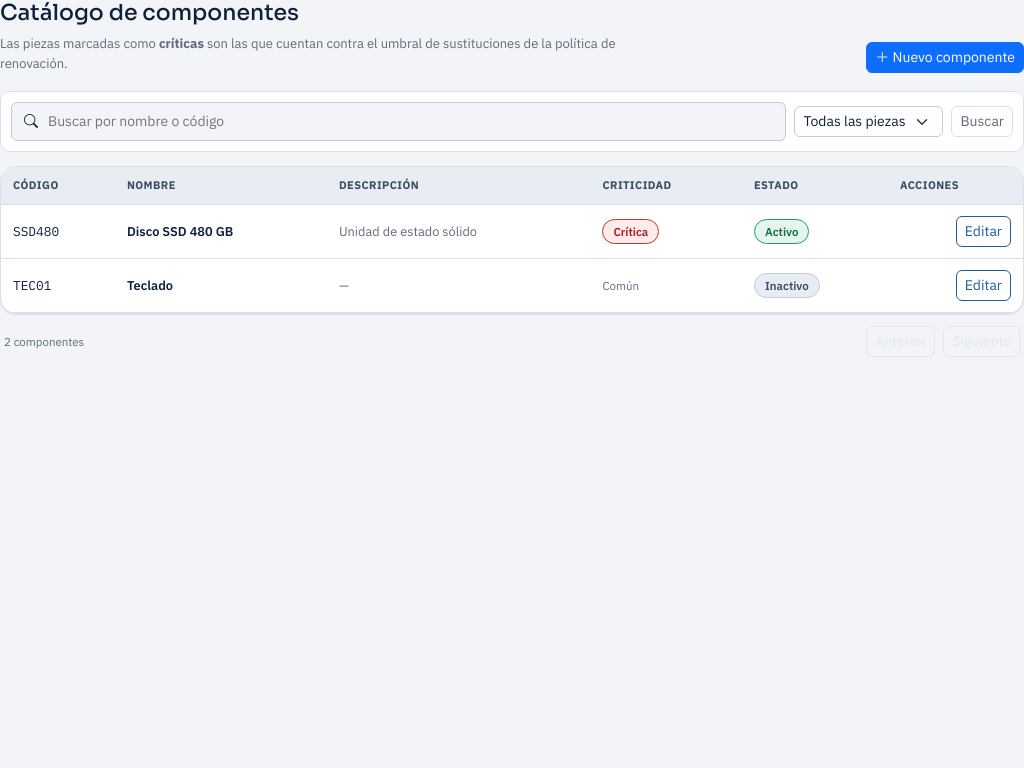
Test: El catálogo de componentes › si el servidor rechaza el componente, el diálogo conserva lo escrito
Expected: the text "Disco SSD 480 GB" is shown, top-left (115, 204), bottom-right (327, 258)
Click the button "Nuevo componente" at (945, 58), box top-left (866, 42), bottom-right (1023, 73)
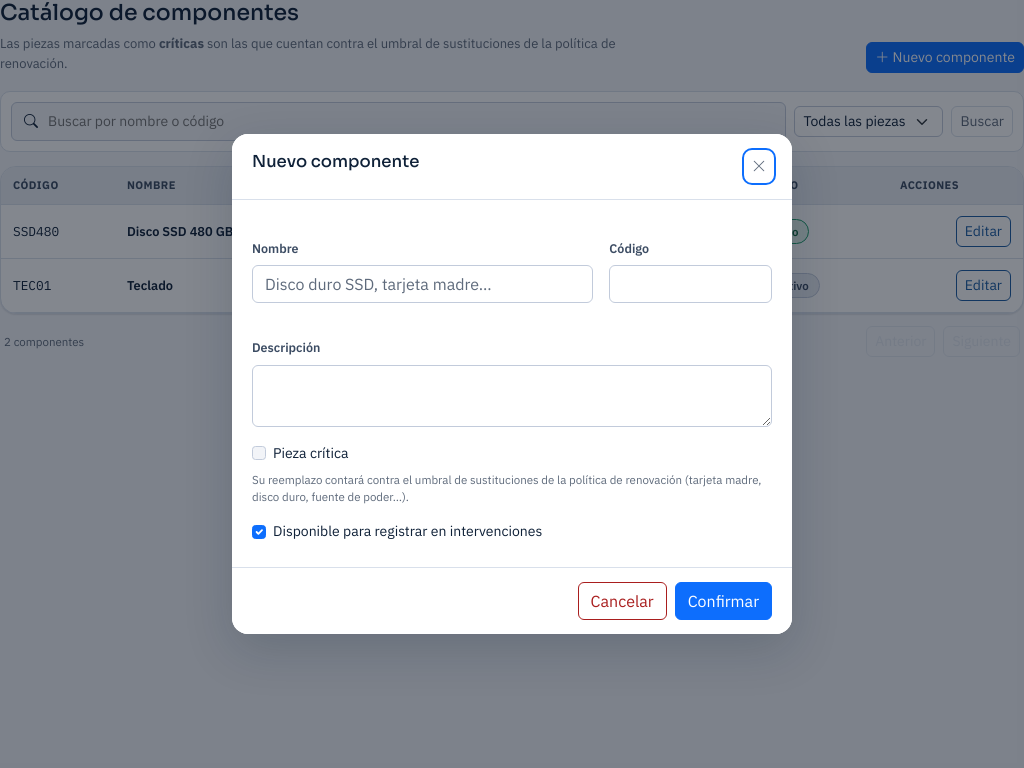
Type "Fuente de poder" into the field labelled "Nombre" at (423, 284), box top-left (252, 265), bottom-right (593, 303)
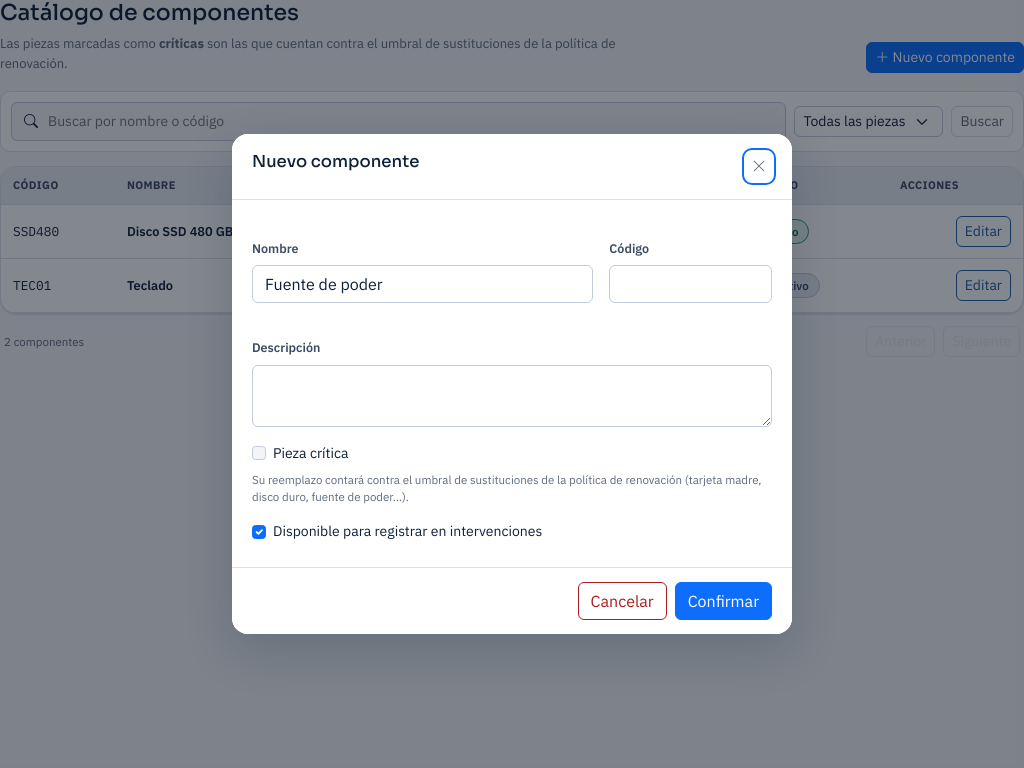
Type "SSD480" into the field labelled "Código" at (691, 284), box top-left (609, 265), bottom-right (772, 303)
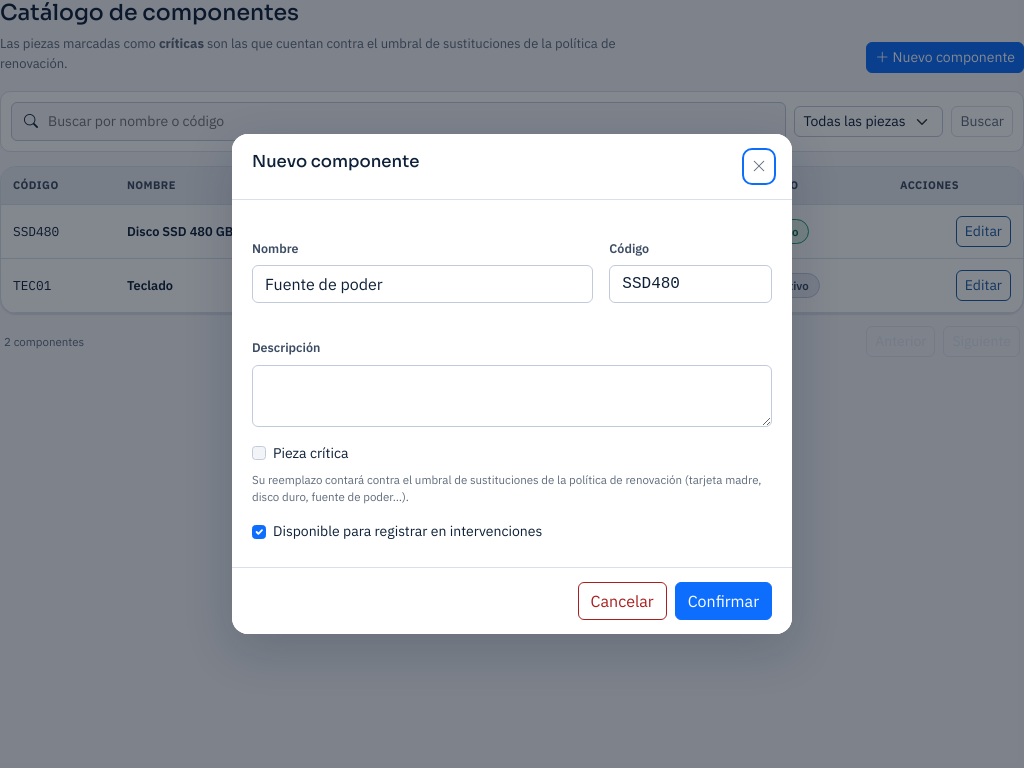
Click the button "Confirmar" at (723, 601), box top-left (675, 582), bottom-right (772, 620)
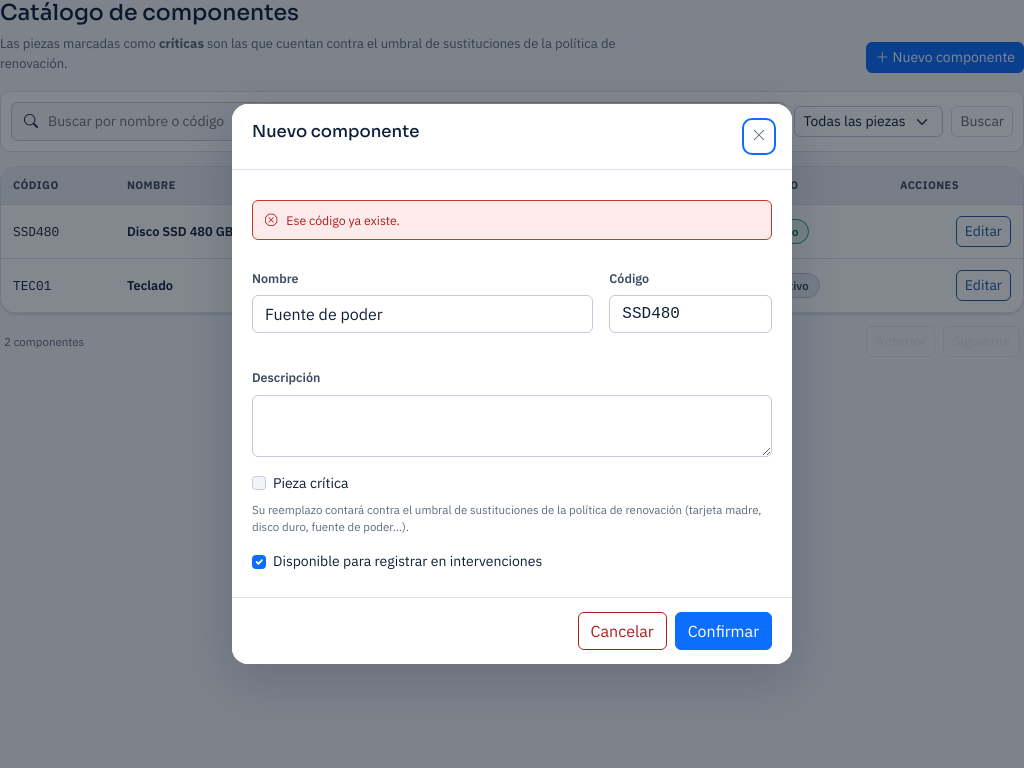
Expected: the text "Ese código ya existe." is shown, top-left (252, 200), bottom-right (772, 240)
